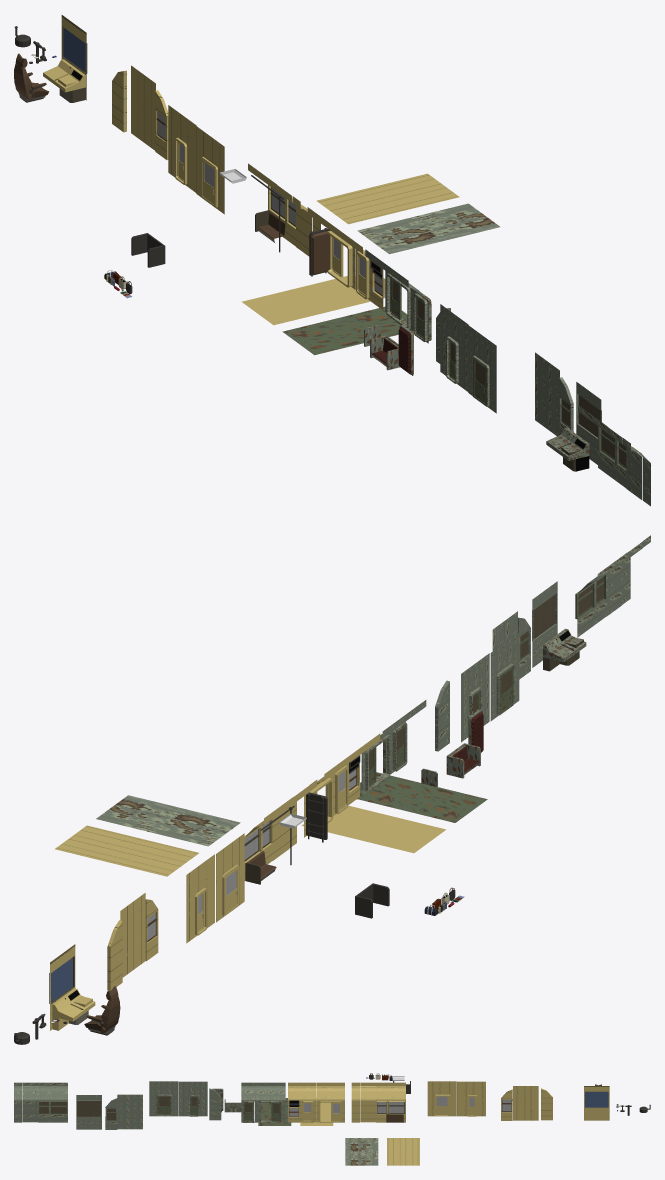
The model's file is traincart.fbx.
The picture shows the model from 3 angles, top to bottom: view 1: azimuth 30°, elevation 25°; view 2: azimuth 150°, elevation 25°; view 3: azimuth 270°, elevation 25°; orthographic projection. The views are drawn at different scales.
Parts seen in each view (by area): view 1: new train rivets floor, GreenRustRivets floor, floor, GreenPaint floor, new train wall end, old train wall.01, new train wall doorway end small, old train Doorway small, oldt rain control room window.01, old train Doorway big, new train wall doorway end, tain end center window new (+12 smaller); view 2: GreenRustRivets floor, new train rivets floor, GreenPaint floor, floor, new train wall end, oldt rain control room window.01, new train wall doorway end small, old train Doorway small, old train Doorway big, new train wall doorway end, tain end center window new, train conseat sidesole old (+12 smaller); view 3: GreenRustRivets floor, old train wall.01, new train rivets floor, new train wall end, tain end center window new, oldt rain control room window.01, old train Doorway small, new train wall doorway end small, old train wall big winow, new train wall doorway end, old train Doorway big, newdoorway.01 (+27 smaller).
Part boxes in pixels (box(x1,y1,x2,y2)): new train rivets floor: box(316, 173, 459, 224); GreenRustRivets floor: box(357, 203, 499, 254); floor: box(241, 276, 384, 325); GreenPaint floor: box(282, 306, 407, 355); new train wall end: box(131, 65, 155, 150); old train wall.01: box(535, 352, 559, 435); new train wall doorway end small: box(168, 105, 196, 192); old train Doorway small: box(440, 304, 468, 391); oldt rain control room window.01: box(576, 382, 601, 464); old train Doorway big: box(468, 325, 496, 413); new train wall doorway end: box(196, 126, 224, 214); tain end center window new: box(61, 15, 87, 100); GreenRustRivets floor: box(96, 795, 240, 846); new train rivets floor: box(55, 825, 198, 876); GreenPaint floor: box(357, 772, 487, 822); floor: box(301, 805, 446, 853); new train wall end: box(120, 893, 145, 977); oldt rain control room window.01: box(532, 581, 557, 667); new train wall doorway end small: box(186, 854, 214, 943); old train Doorway small: box(461, 653, 489, 742); old train Doorway big: box(490, 632, 519, 721); new train wall doorway end: box(216, 833, 244, 922); tain end center window new: box(49, 944, 75, 1030); train conseat sidesole old: box(543, 628, 586, 671); GreenRustRivets floor: box(345, 1138, 378, 1165); old train wall.01: box(117, 1094, 142, 1129); new train rivets floor: box(387, 1138, 419, 1165); new train wall end: box(513, 1086, 538, 1120); tain end center window new: box(584, 1086, 609, 1120); oldt rain control room window.01: box(76, 1095, 101, 1129); old train Doorway small: box(178, 1081, 207, 1116); new train wall doorway end small: box(457, 1081, 485, 1116); old train wall big winow: box(49, 1082, 67, 1122); new train wall doorway end: box(427, 1081, 456, 1116); old train Doorway big: box(149, 1081, 178, 1116); newdoorway.01: box(316, 1082, 344, 1122).
Bounding box in the file's own units: 2532 × 534 × 7731.
